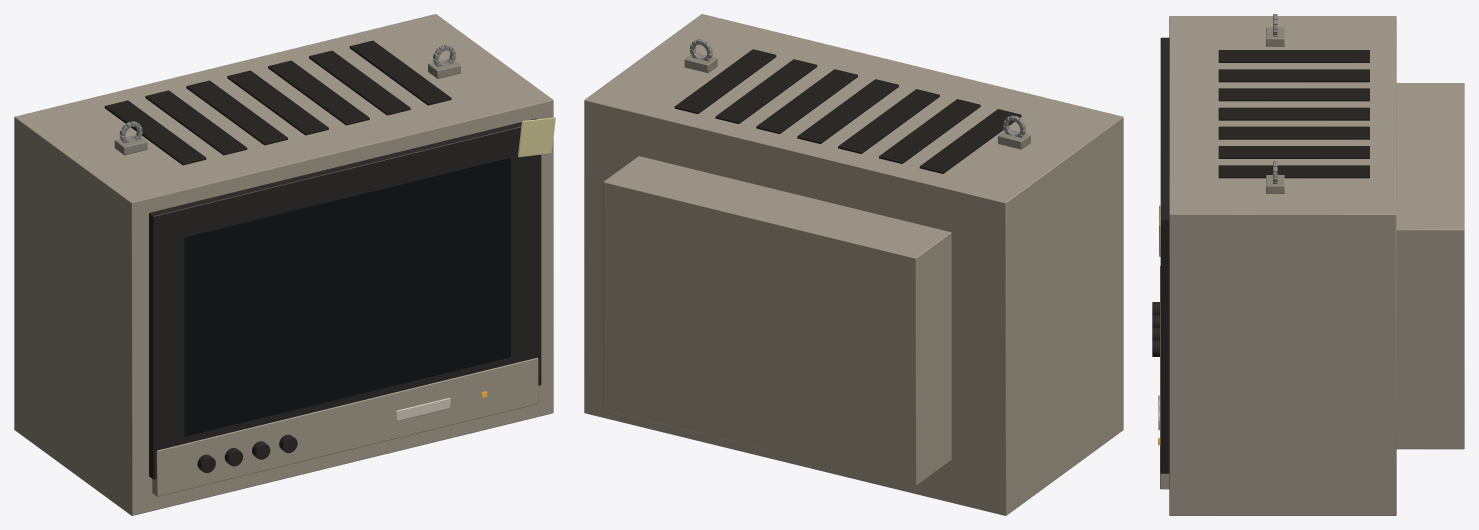
Rendered from SM_L_TV_Hub.gltf.
3 renders of one model, left to right at view 1: azimuth 30°, elevation 25°; view 2: azimuth 150°, elevation 25°; view 3: azimuth 270°, elevation 25°, orthographic. The views are drawn at different scales.
Visible parts, largest first — view 1: SM_L_TV_Hub_LookDev02__Body, SM_L_TV_Hub_LookDev02__Screen; view 2: SM_L_TV_Hub_LookDev02__Body; view 3: SM_L_TV_Hub_LookDev02__Body.
Part boxes in pixels (x1,y1,x2,y2): SM_L_TV_Hub_LookDev02__Body: (14, 14, 555, 515); SM_L_TV_Hub_LookDev02__Screen: (184, 158, 510, 436); SM_L_TV_Hub_LookDev02__Body: (584, 14, 1123, 515); SM_L_TV_Hub_LookDev02__Body: (1152, 14, 1464, 515).
Size of the model in its own units: 1.24 by 0.9563 by 0.825.
9 materials, 8 textured.
